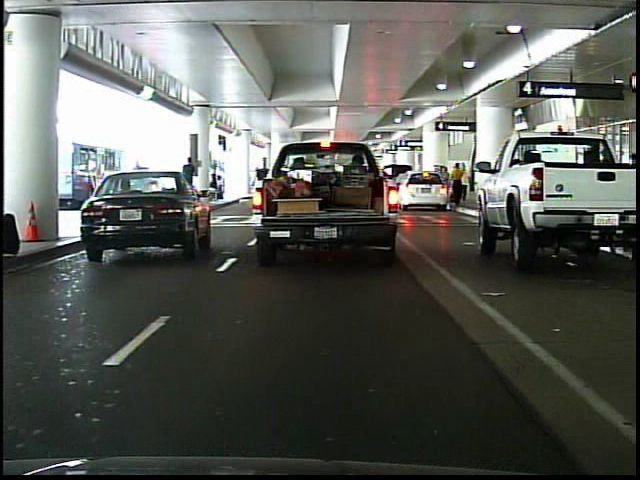person: (179, 153, 201, 210)
